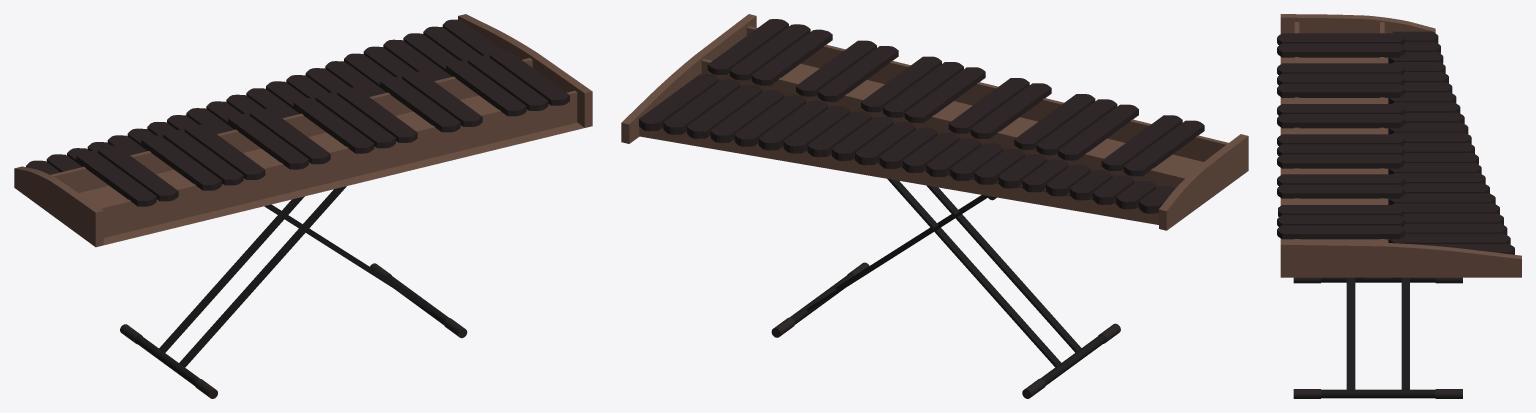
Rendered from Xylophone.fbx.
3 views of the same model, side by side, from view 1: azimuth 30°, elevation 25°; view 2: azimuth 150°, elevation 25°; view 3: azimuth 270°, elevation 25° (orthographic). The views are drawn at different scales.
Parts seen in each view (by area): view 1: Xylophone; view 2: Xylophone; view 3: Xylophone.
Part boxes in pixels (x1,y1,x2,y2): Xylophone: [14, 14, 592, 398]; Xylophone: [621, 14, 1248, 398]; Xylophone: [1277, 14, 1521, 398].
Size of the model in its own units: 214 by 91.65 by 96.05.
